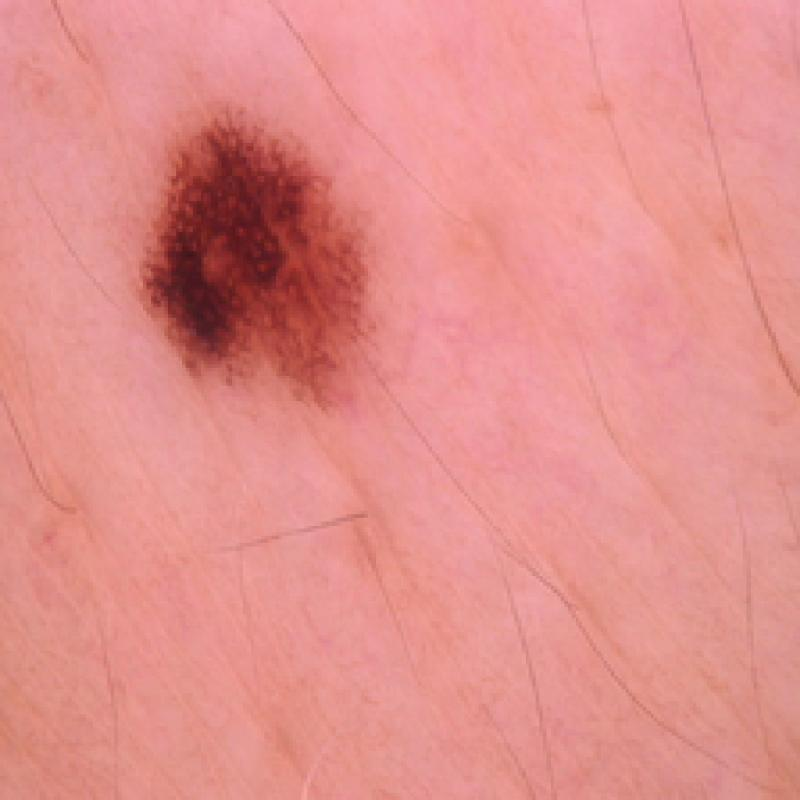benign: (128, 96, 398, 432)
